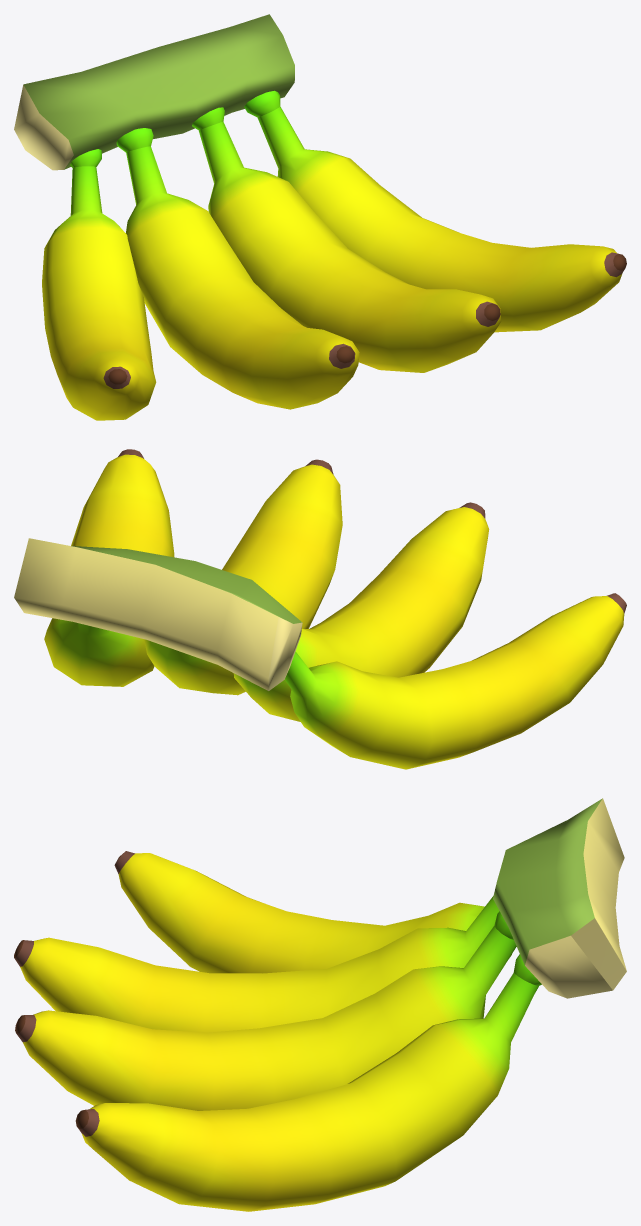
The model's file is food_banana.glb.
3 renders of one model, top to bottom at view 1: azimuth 30°, elevation 25°; view 2: azimuth 150°, elevation 25°; view 3: azimuth 270°, elevation 25°, orthographic. The views are drawn at different scales.
Parts seen in each view (by area): view 1: food_banana; view 2: food_banana; view 3: food_banana.
Boxes of the visible parts, x1,y1,x2,y2 form: food_banana: (14, 14, 626, 420); food_banana: (14, 449, 626, 769); food_banana: (14, 798, 626, 1211).
Size of the model in its own units: 72.61 by 30 by 65.96.
Materials: 1 (1 with a texture image).
